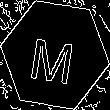M_N: (30, 26, 80, 84)
